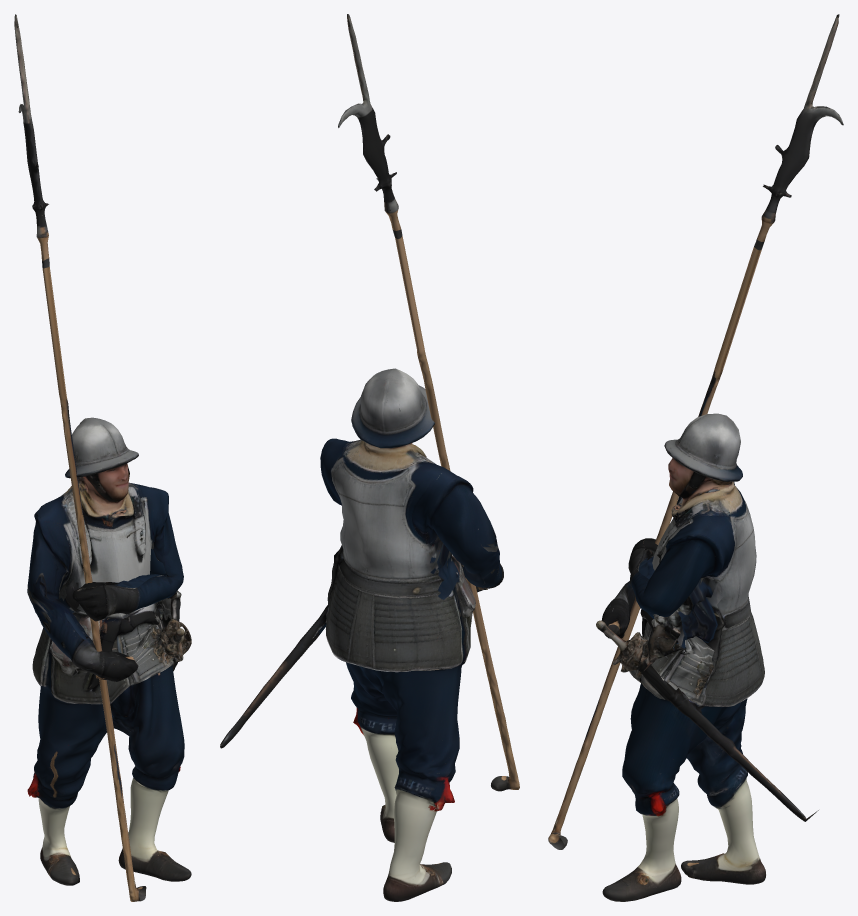
The model's file is PIKEMAN_Swe_Ret.glb.
3 views of the same model, side by side, from view 1: azimuth 30°, elevation 25°; view 2: azimuth 150°, elevation 25°; view 3: azimuth 270°, elevation 25° (orthographic). The views are drawn at different scales.
Visible parts, largest first — view 1: Mesh0.008; view 2: Mesh0.008; view 3: Mesh0.008.
Part boxes in pixels (left/top/right/bottom): Mesh0.008: left=14, top=14, right=191, bottom=901; Mesh0.008: left=220, top=14, right=519, bottom=901; Mesh0.008: left=548, top=14, right=843, bottom=901.
Bounding box in the file's own units: 0.6484 × 2.7 × 0.8328.
Materials: 1 (1 with a texture image).
